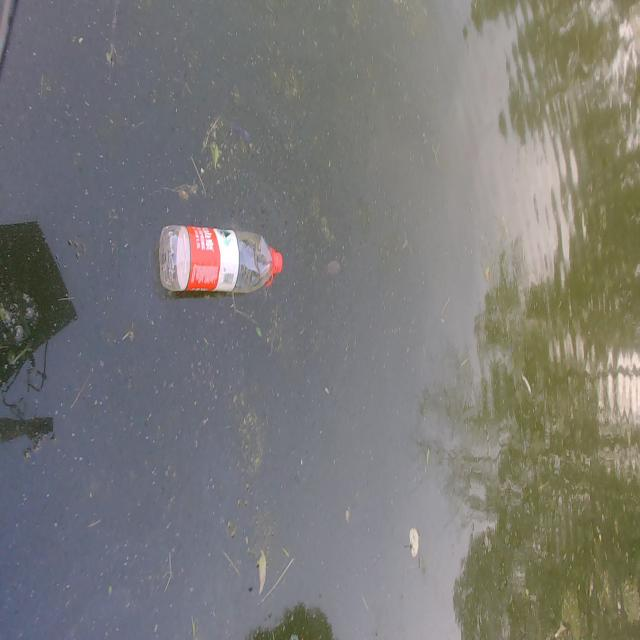Bottle: (156, 215, 286, 298)
